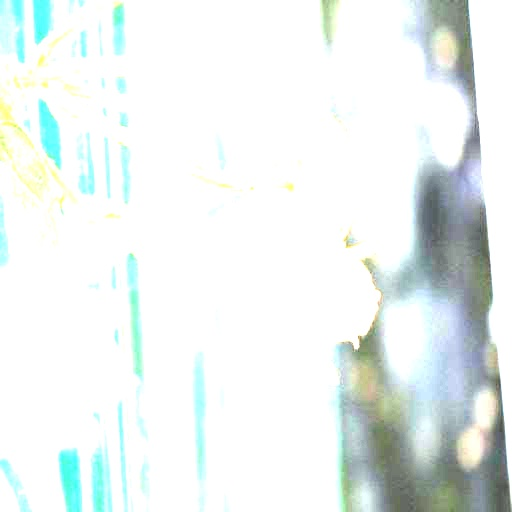Gray Mold: (214, 231, 382, 386)
